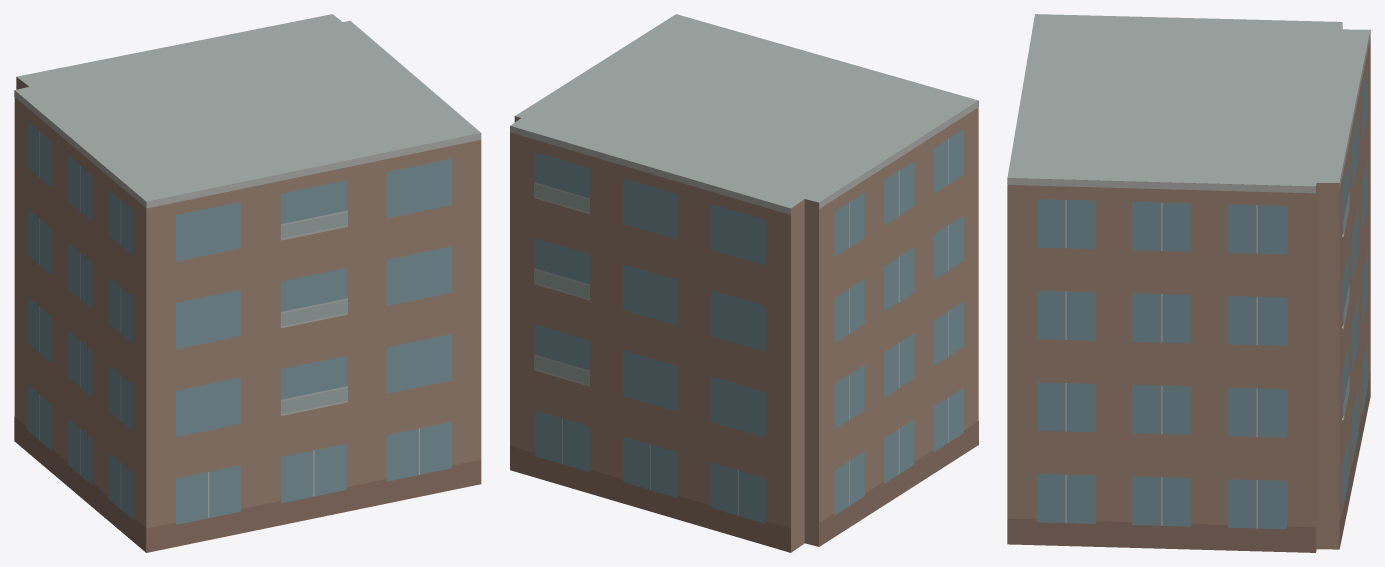
The model's file is survey-upis-32664713.glb.
The picture shows the model from 3 angles, left to right: view 1: azimuth 30°, elevation 25°; view 2: azimuth 150°, elevation 25°; view 3: azimuth 270°, elevation 25°; orthographic projection. The views are drawn at different scales.
Parts seen in each view (by area): view 1: survey-upis-32664713.tmp; view 2: survey-upis-32664713.tmp; view 3: survey-upis-32664713.tmp.
Part boxes in pixels (box(x1,y1,x2,y2)): survey-upis-32664713.tmp: box(14, 14, 481, 552); survey-upis-32664713.tmp: box(510, 14, 978, 552); survey-upis-32664713.tmp: box(1007, 14, 1370, 552).
Size of the model in its own units: 12.93 by 12.8 by 11.51.
